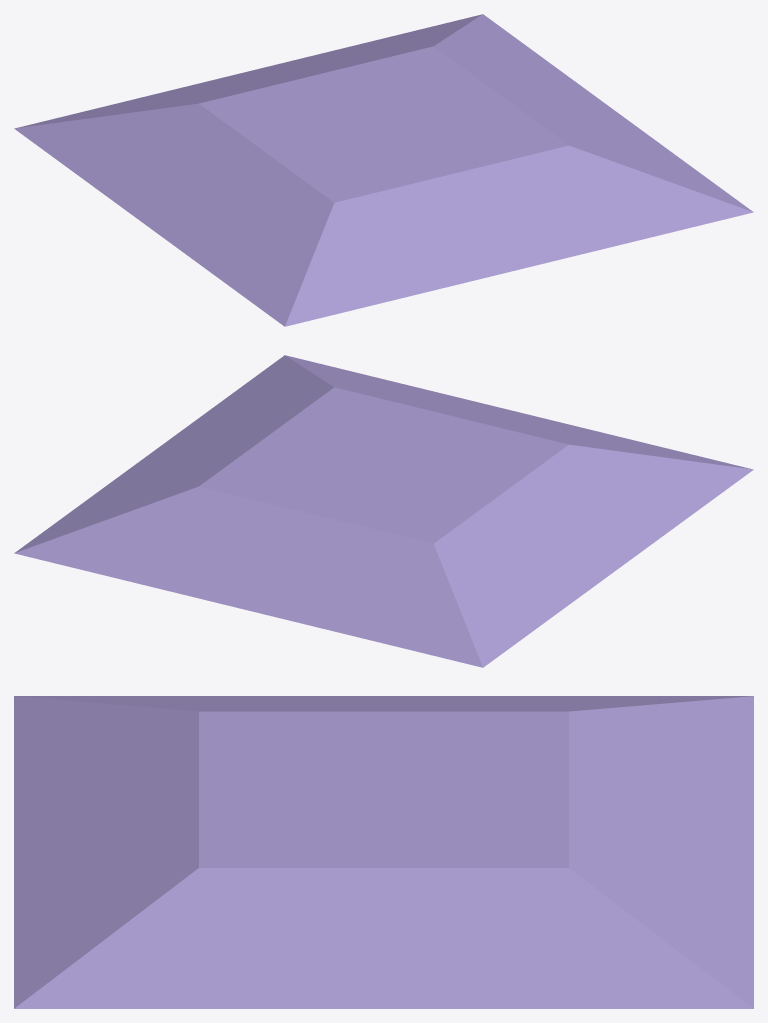
Rendered from FinishPad.fbx.
3 views of the same model, one above another, from view 1: azimuth 30°, elevation 25°; view 2: azimuth 150°, elevation 25°; view 3: azimuth 270°, elevation 25° (orthographic). The views are drawn at different scales.
Parts seen in each view (by area): view 1: Cube; view 2: Cube; view 3: Cube.
Part boxes in pixels (x1,y1,x2,y2): Cube: (14,14,753,326); Cube: (14,355,753,667); Cube: (14,696,753,1008).
Bounding box in the file's own units: 400 × 37.39 × 400.
